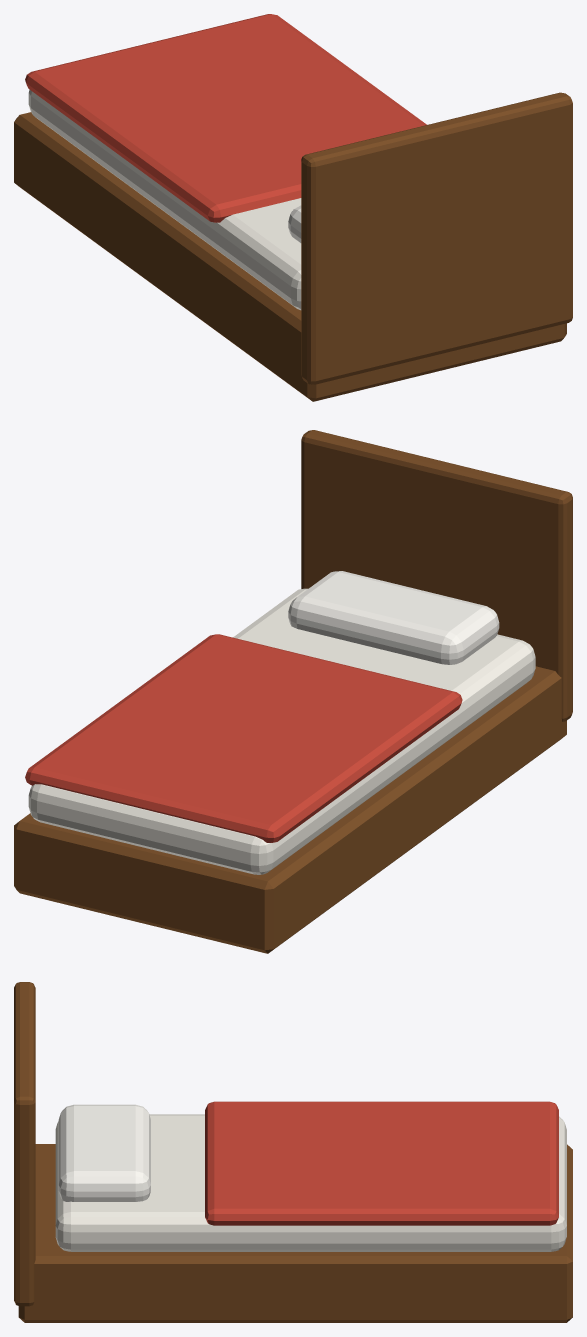
The model's file is furn_bed.glb.
3 views of the same model, one above another, from view 1: azimuth 30°, elevation 25°; view 2: azimuth 150°, elevation 25°; view 3: azimuth 270°, elevation 25° (orthographic). The views are drawn at different scales.
Parts seen in each view (by area): view 1: headboard, blanket, frame, mattress; view 2: blanket, frame, headboard, mattress, pillow; view 3: blanket, frame, mattress, pillow, headboard.
Boxes of the visible parts, x1=… form: headboard: x1=301, y1=92, x2=572, y2=384; blanket: x1=25, y1=14, x2=426, y2=222; frame: x1=14, y1=112, x2=566, y2=401; mattress: x1=28, y1=89, x2=301, y2=310; blanket: x1=25, y1=634, x2=462, y2=842; frame: x1=14, y1=666, x2=566, y2=953; headboard: x1=301, y1=430, x2=572, y2=721; mattress: x1=28, y1=588, x2=535, y2=874; pillow: x1=288, y1=571, x2=499, y2=664; blanket: x1=205, y1=1101, x2=558, y2=1225; frame: x1=18, y1=1144, x2=572, y2=1322; mattress: x1=55, y1=1114, x2=566, y2=1251; pillow: x1=58, y1=1104, x2=150, y2=1201; headboard: x1=14, y1=982, x2=35, y2=1306.
Size of the model in its own units: 0.92 by 0.815 by 1.81.
